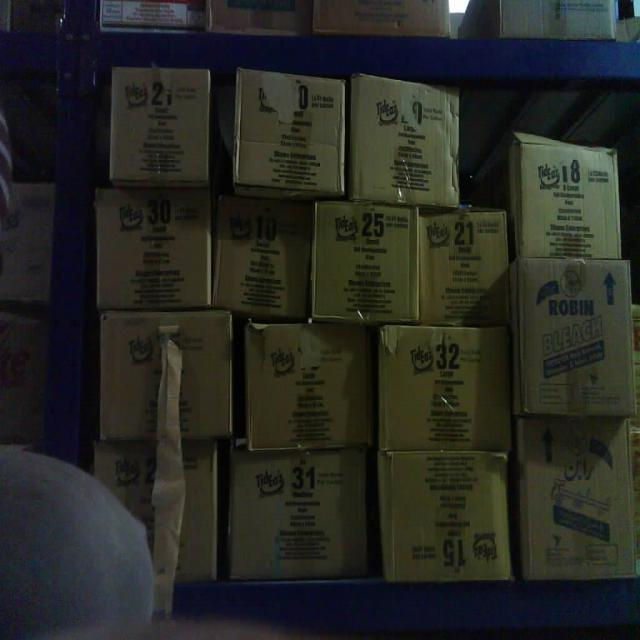cardboxes: (514, 411, 636, 588), (228, 442, 372, 579), (376, 446, 516, 584), (520, 258, 636, 422), (97, 304, 233, 442), (241, 314, 373, 452), (93, 442, 218, 584), (376, 324, 512, 452), (347, 71, 462, 209), (92, 182, 213, 310), (236, 64, 350, 199), (312, 198, 421, 326), (515, 137, 623, 266), (111, 63, 212, 188), (215, 190, 312, 320), (416, 208, 511, 328)
